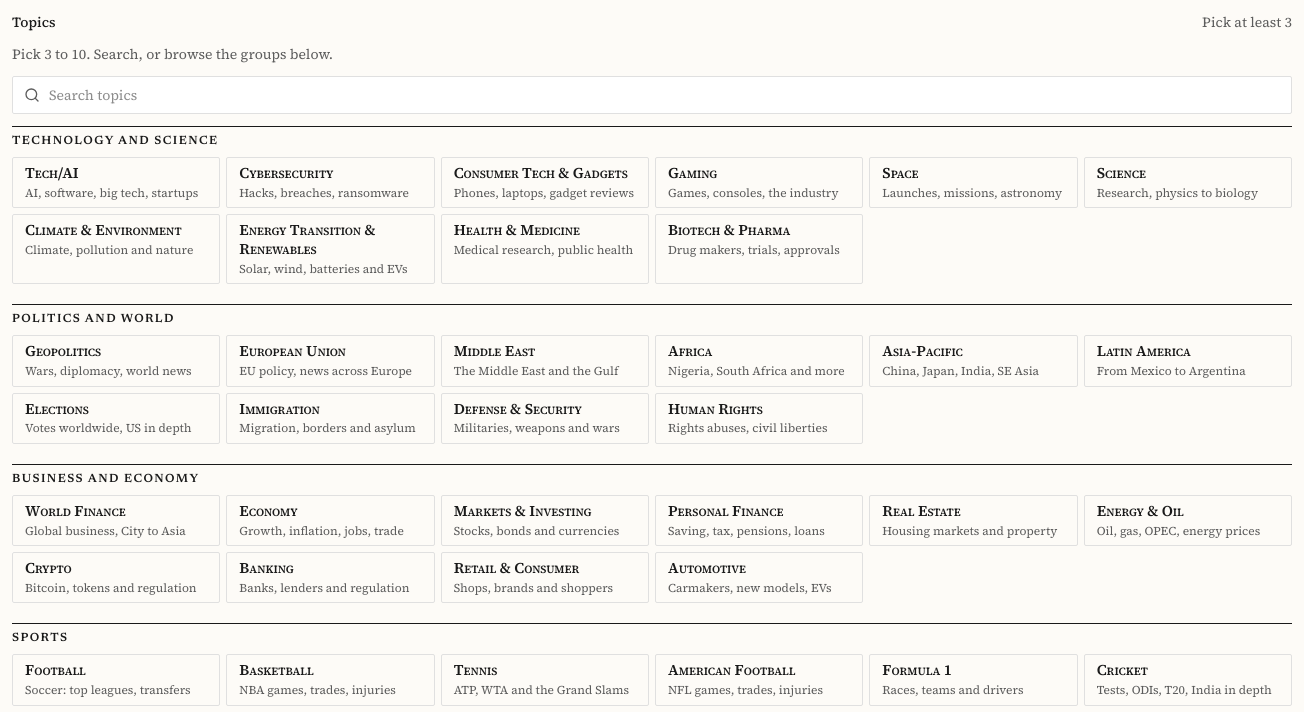
Scenario: the topic grid › picks a topic with a click, as a pressed chip and a form value
The width and height of the screenshot is (1304, 712).
Click the button "Consumer Tech & Gadgets Phones, laptops, gadget reviews" at (545, 183), box [441,157,649,208]
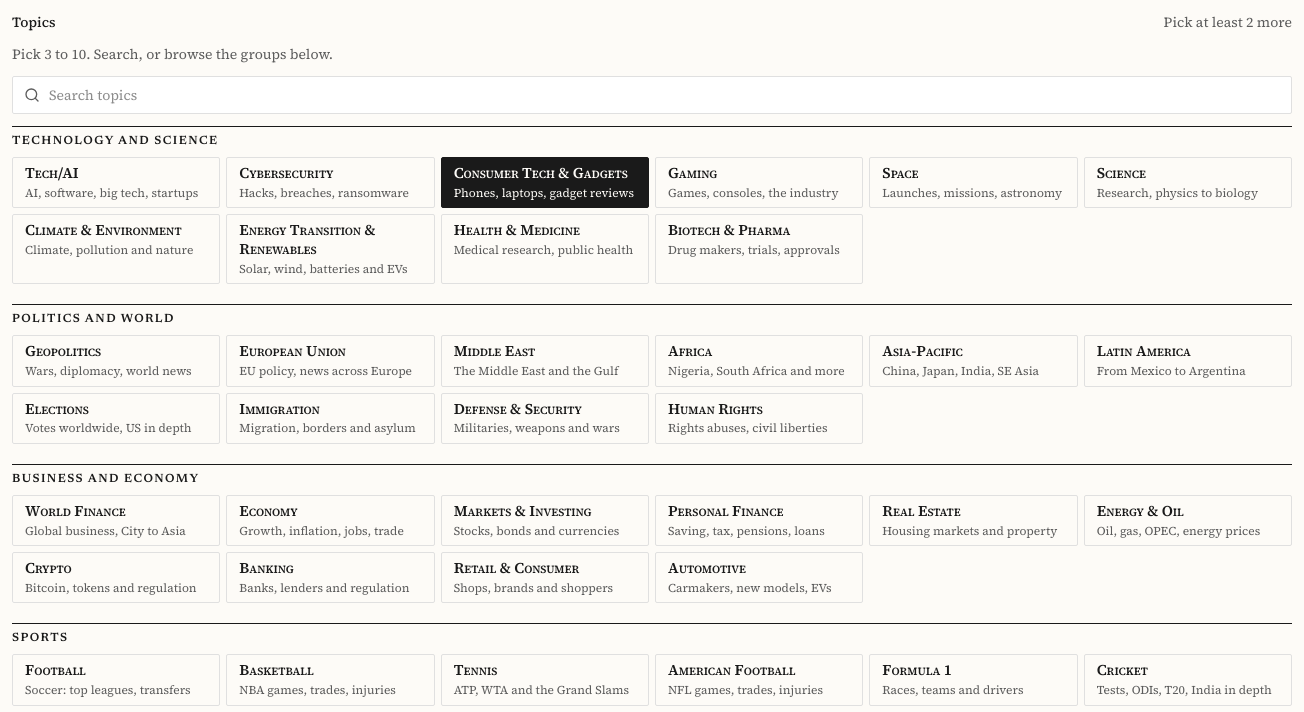
Check: the text "Pick at least 2 more" is shown, box [1164,12,1292,32]
